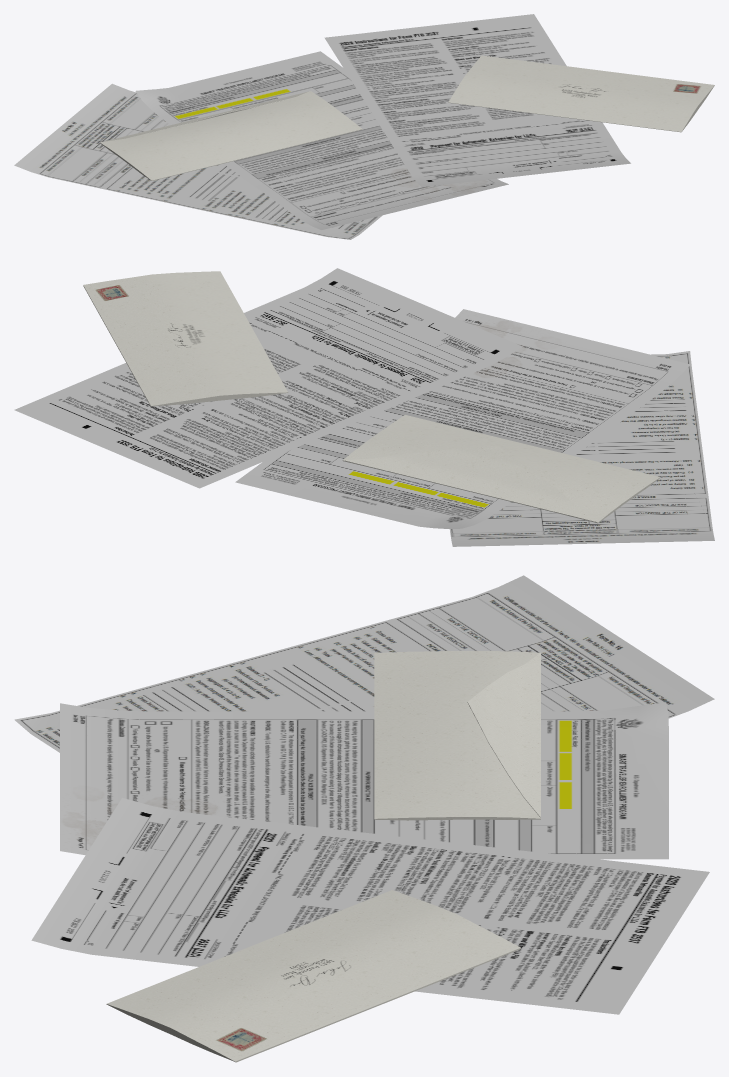
Rendered from Papers.fbx.
The picture shows the model from 3 angles, top to bottom: view 1: azimuth 30°, elevation 25°; view 2: azimuth 150°, elevation 25°; view 3: azimuth 270°, elevation 25°; orthographic projection. The views are drawn at different scales.
Parts seen in each view (by area): view 1: Paper_2, Paper_1, Paper_3, Envelope_1, Envelope_2; view 2: Paper_2, Paper_1, Paper_3, Envelope_1, Envelope_2; view 3: Paper_2, Paper_1, Paper_3, Envelope_1, Envelope_2.
Boxes of the visible parts, bbox=[...] form: Paper_2: bbox=[324, 14, 630, 187]; Paper_1: bbox=[135, 51, 508, 229]; Paper_3: bbox=[14, 83, 382, 239]; Envelope_1: bbox=[448, 55, 714, 132]; Envelope_2: bbox=[100, 91, 362, 180]; Paper_2: bbox=[14, 268, 522, 488]; Paper_1: bbox=[235, 309, 690, 528]; Paper_3: bbox=[449, 351, 714, 546]; Envelope_1: bbox=[83, 271, 288, 406]; Envelope_2: bbox=[342, 415, 660, 523]; Paper_2: bbox=[31, 798, 709, 1014]; Paper_1: bbox=[60, 702, 668, 859]; Paper_3: bbox=[14, 575, 714, 752]; Envelope_1: bbox=[106, 890, 520, 1062]; Envelope_2: bbox=[374, 651, 540, 820].
Size of the model in its own units: 79.4 by 2.82 by 48.89.
